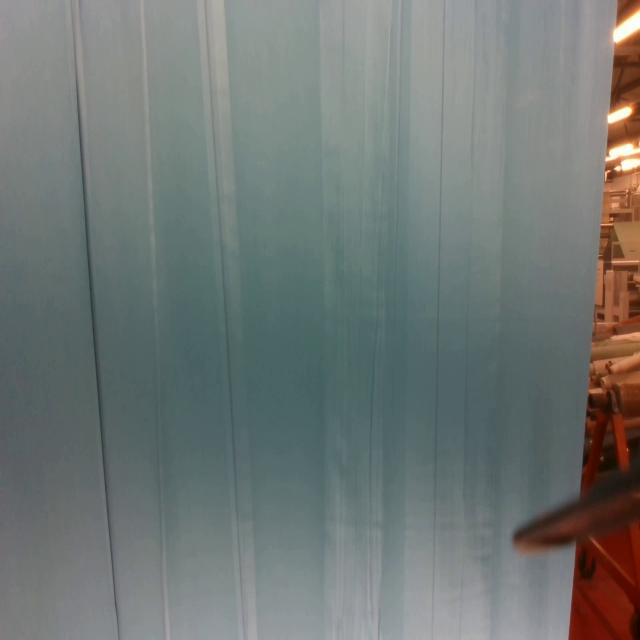crease: (408, 0, 502, 640), (317, 0, 389, 638), (197, 1, 256, 640), (66, 0, 123, 640), (139, 1, 170, 640)
